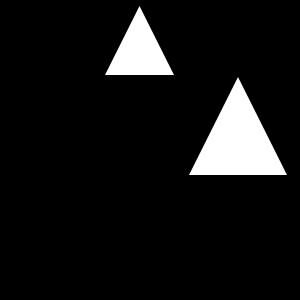triangle: (189, 77, 287, 175), (105, 6, 174, 75)
